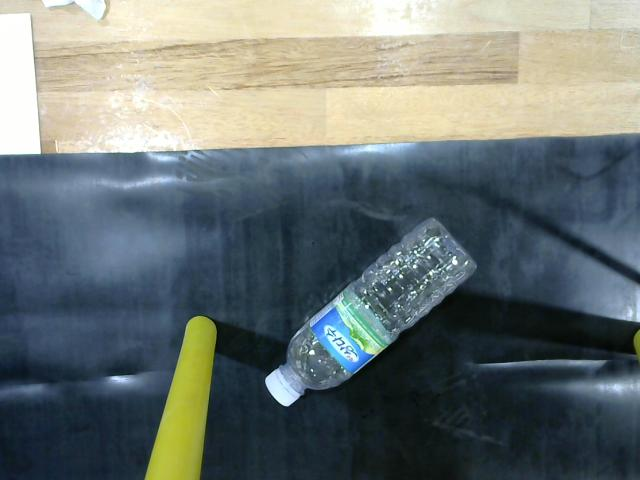bottle: (261, 207, 487, 415)
